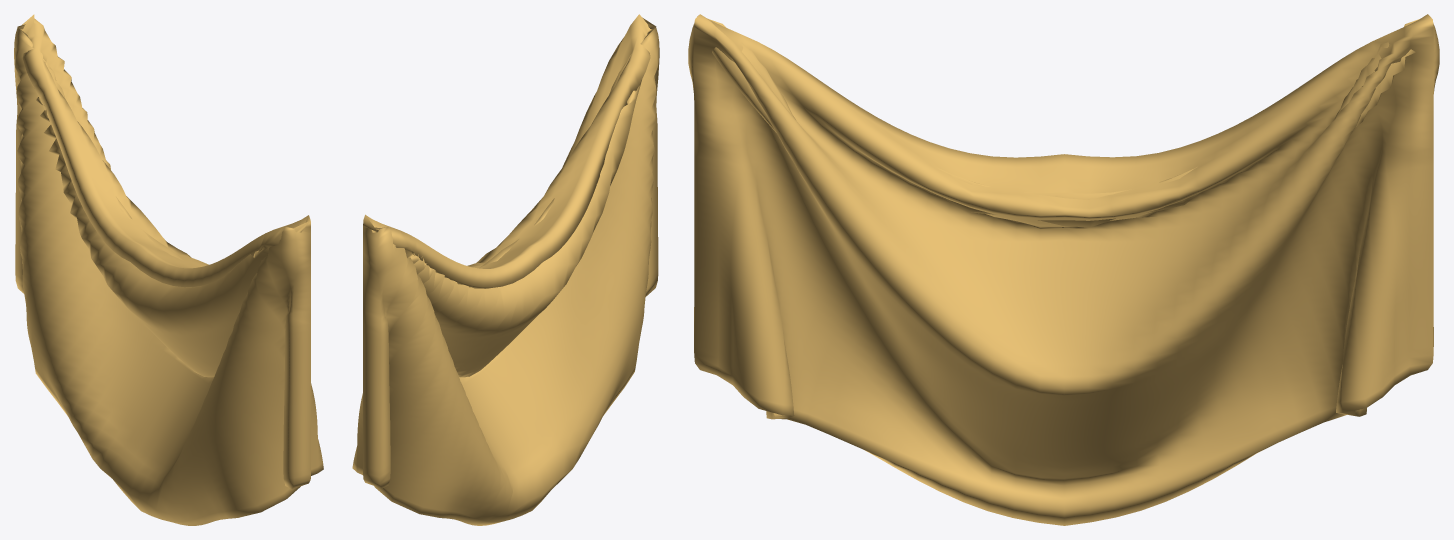
Rendered from OverheadCurtain 1.fbx.
3 renders of one model, left to right at view 1: azimuth 30°, elevation 25°; view 2: azimuth 150°, elevation 25°; view 3: azimuth 270°, elevation 25°, orthographic. The views are drawn at different scales.
Visible parts, largest first — view 1: LowPoly Overhead Curtains.001; view 2: LowPoly Overhead Curtains.001; view 3: LowPoly Overhead Curtains.001.
Part boxes in pixels (x1,y1,x2,y2): LowPoly Overhead Curtains.001: (14,14,323,525); LowPoly Overhead Curtains.001: (352,14,659,525); LowPoly Overhead Curtains.001: (688,14,1439,525).
Size of the model in its own units: 117 by 459 by 597.
